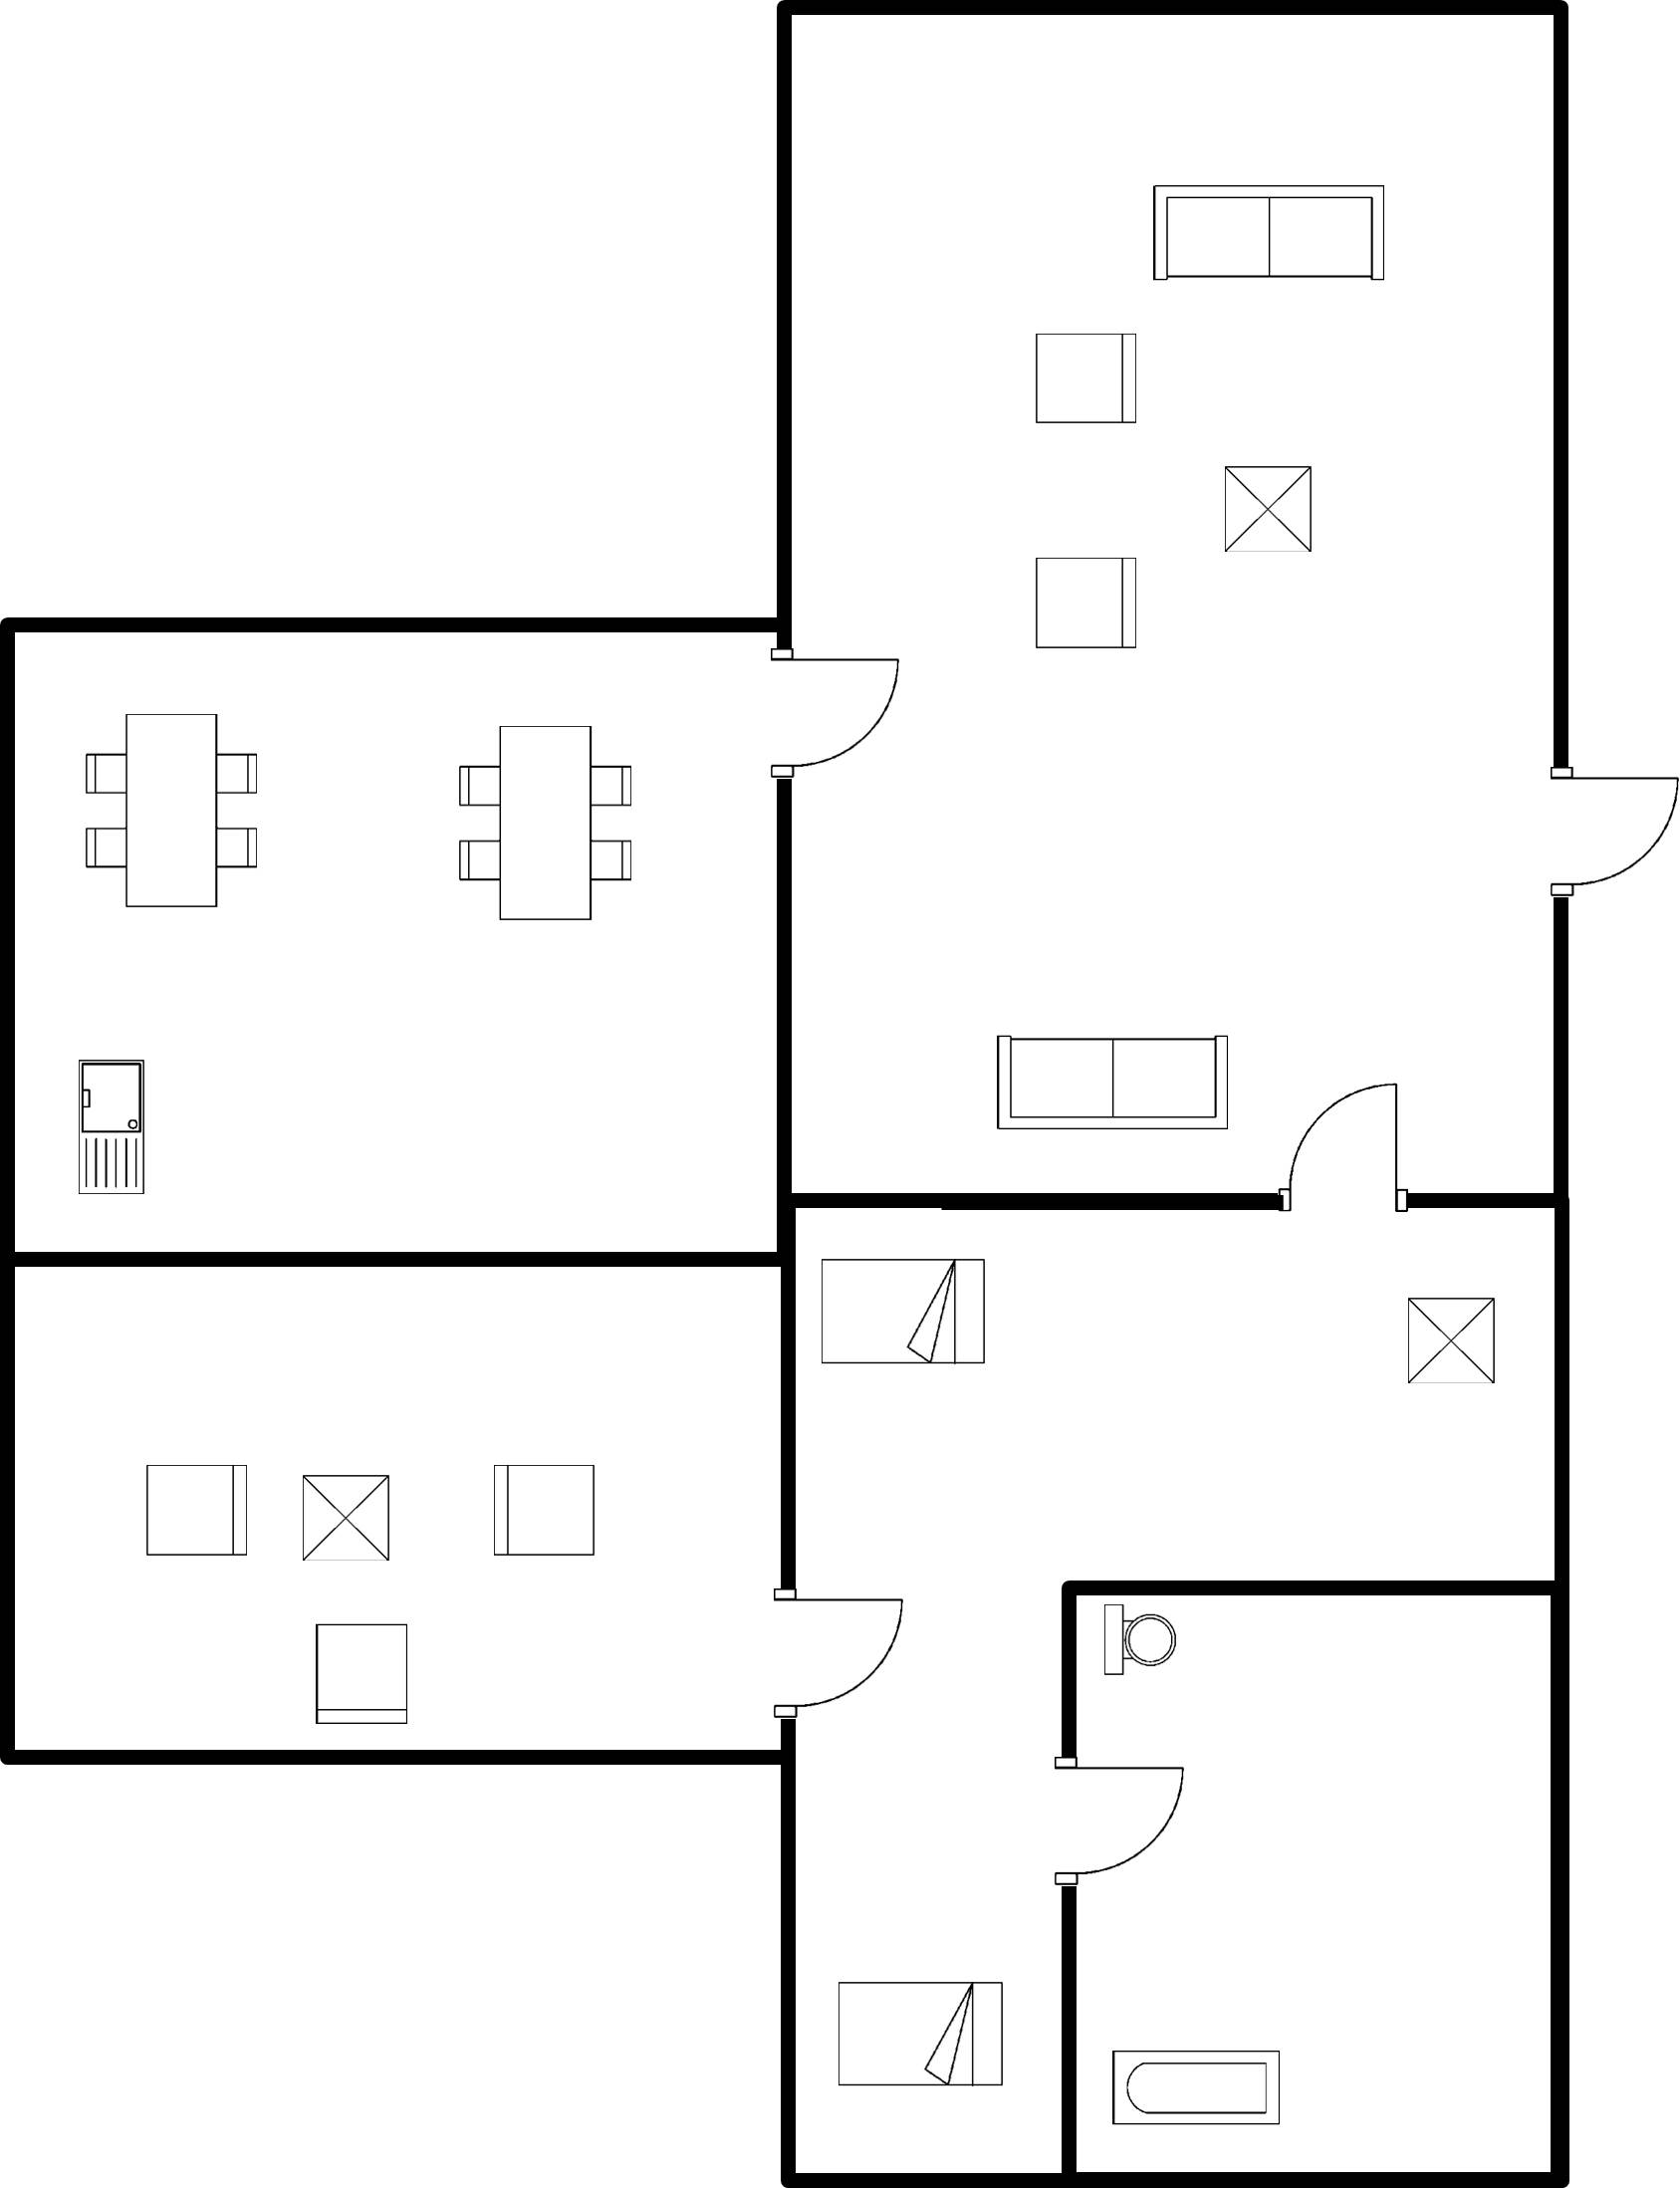bed: (808, 1245, 1005, 1385), (817, 1966, 1018, 2100)
coffee_table: (1206, 454, 1329, 572), (289, 1463, 412, 1579), (1390, 1288, 1516, 1403)
dining_table: (440, 708, 650, 939), (66, 697, 273, 929)
large_sink: (1085, 1597, 1185, 1689)
large_sofa: (1132, 155, 1397, 301), (983, 1018, 1243, 1143), (470, 1444, 615, 1579), (132, 1450, 265, 1572), (299, 1604, 418, 1739)
sink: (66, 1046, 160, 1201)
small_sofa: (134, 1446, 265, 1579), (297, 1610, 427, 1741), (1025, 539, 1152, 662), (479, 1453, 606, 1574), (1027, 323, 1148, 441)
tub: (1098, 2035, 1298, 2147)
